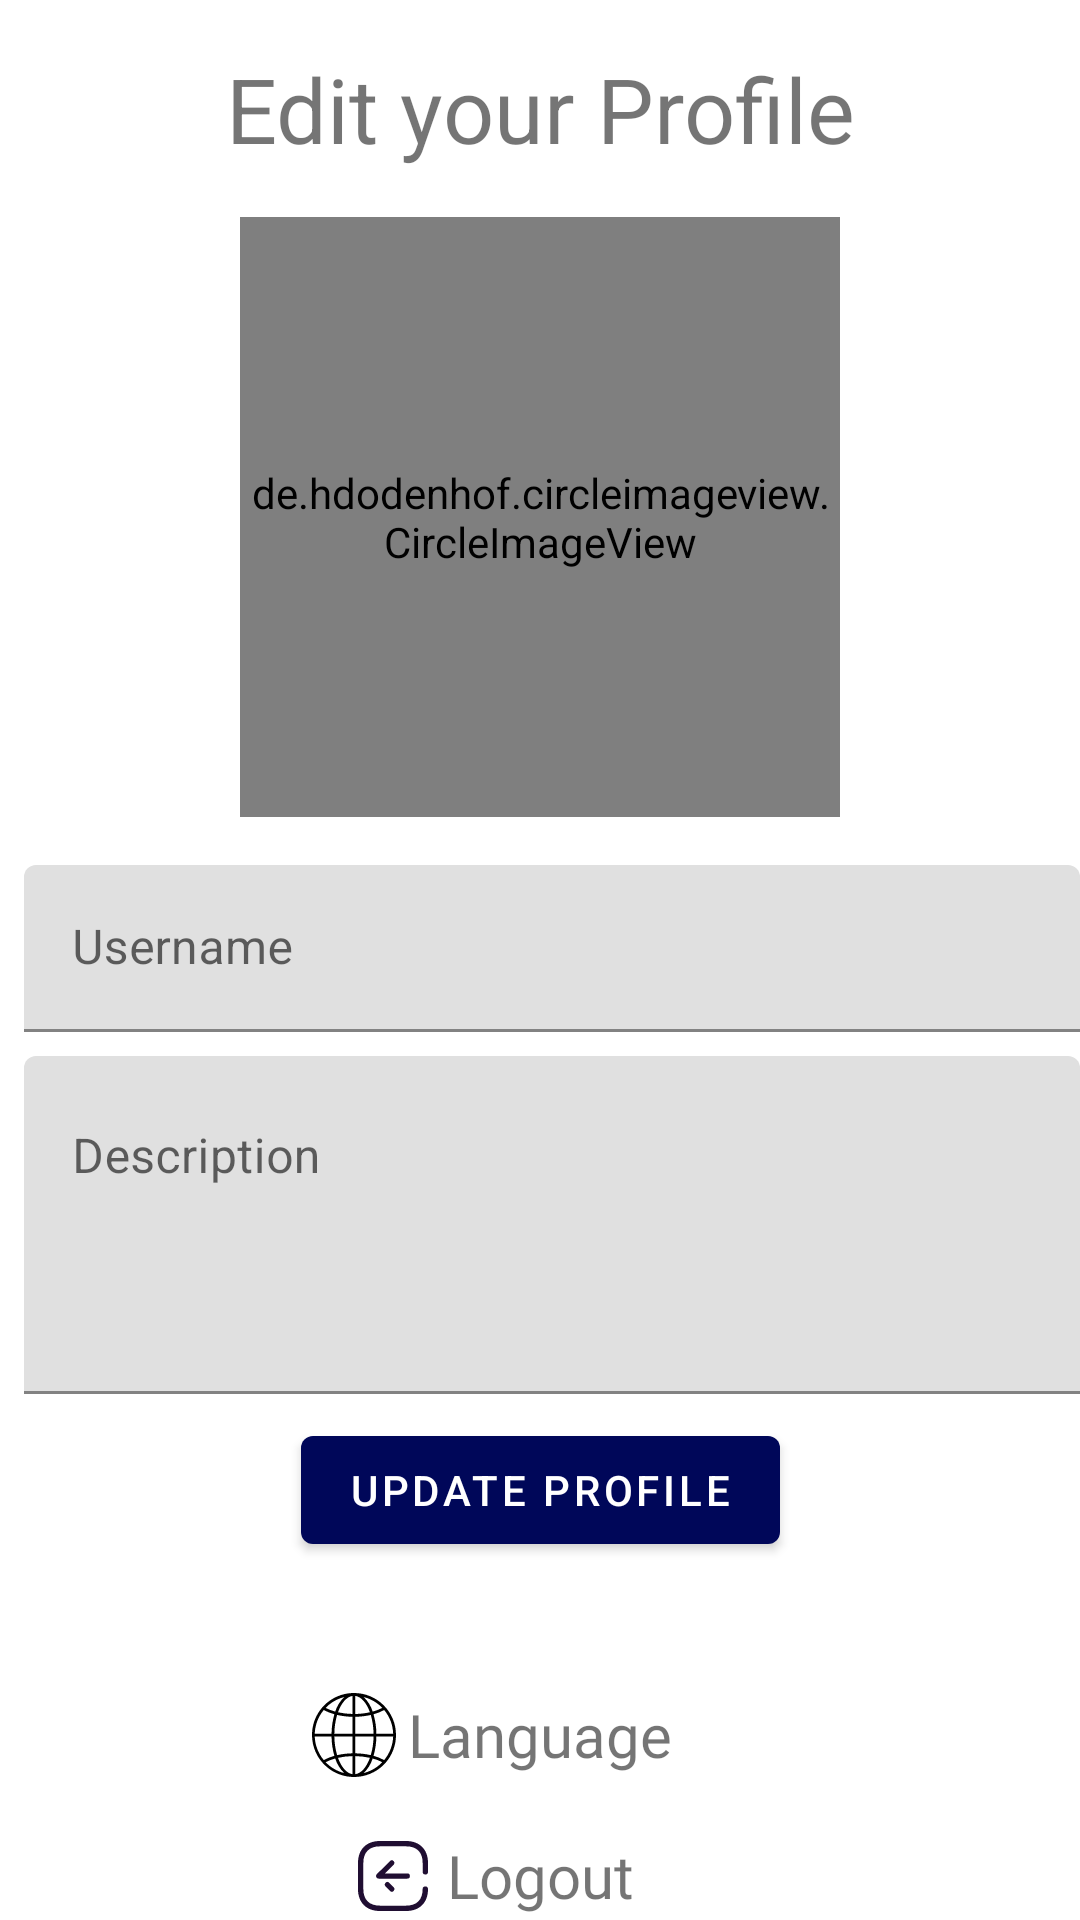

Icon bounding boxes for this 1080w x 1920h phone screenshot, format {"left": x1, "top": y1, "right": x2, "bottom": y2}:
globe: {"left": 312, "top": 1693, "right": 396, "bottom": 1777}
